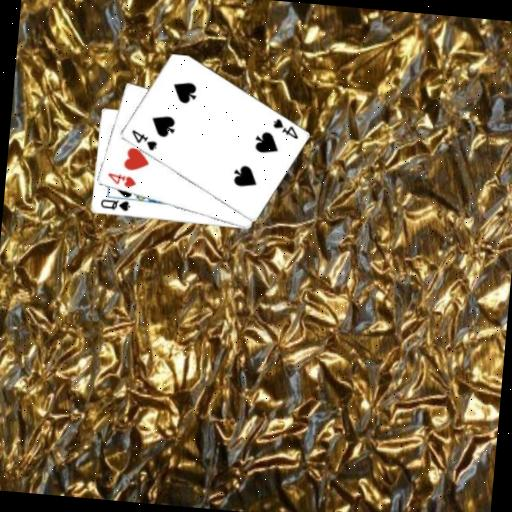4H: (104, 169, 138, 190)
4S: (127, 126, 159, 152), (269, 115, 301, 141)
QS: (97, 196, 132, 214)
